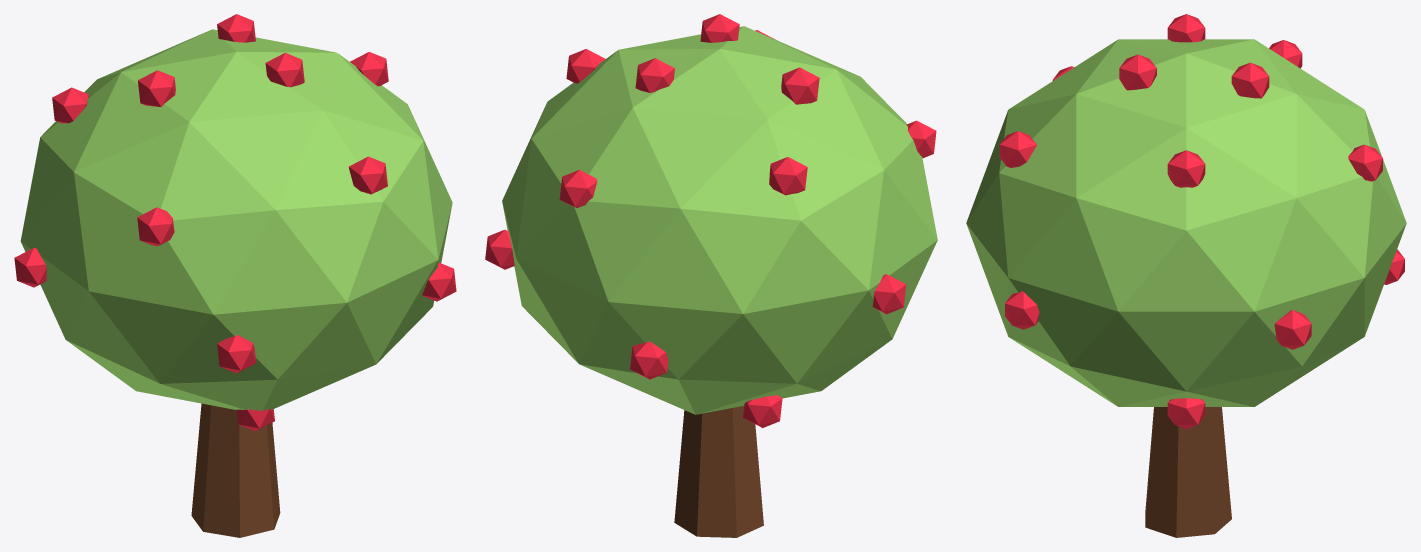
The model's file is arvore_frutas.glb.
3 views of the same model, side by side, from view 1: azimuth 30°, elevation 25°; view 2: azimuth 150°, elevation 25°; view 3: azimuth 270°, elevation 25° (orthographic).
Visible parts, largest first — view 1: arvore_frutas_copa, arvore_frutas_tronco, arvore_frutas_fruta_09, arvore_frutas_fruta_04, arvore_frutas_fruta_05, arvore_frutas_fruta_12, arvore_frutas_fruta_13, arvore_frutas_fruta_08, arvore_frutas_fruta_03, arvore_frutas_fruta_11, arvore_frutas_fruta_10, arvore_frutas_fruta_01 (+1 smaller); view 2: arvore_frutas_copa, arvore_frutas_tronco, arvore_frutas_fruta_03, arvore_frutas_fruta_12, arvore_frutas_fruta_07, arvore_frutas_fruta_02, arvore_frutas_fruta_11, arvore_frutas_fruta_15, arvore_frutas_fruta_08, arvore_frutas_fruta_13, arvore_frutas_fruta_06, arvore_frutas_fruta_01 (+1 smaller); view 3: arvore_frutas_copa, arvore_frutas_tronco, arvore_frutas_fruta_01, arvore_frutas_fruta_06, arvore_frutas_fruta_11, arvore_frutas_fruta_13, arvore_frutas_fruta_05, arvore_frutas_fruta_10, arvore_frutas_fruta_14, arvore_frutas_fruta_02, arvore_frutas_fruta_12, arvore_frutas_fruta_03.
Boxes of the visible parts, x1,y1,x2,y2 form: arvore_frutas_copa: [20, 29, 452, 410]; arvore_frutas_tronco: [191, 403, 280, 537]; arvore_frutas_fruta_09: [217, 335, 256, 373]; arvore_frutas_fruta_04: [137, 207, 174, 246]; arvore_frutas_fruta_05: [349, 156, 387, 194]; arvore_frutas_fruta_12: [138, 70, 175, 106]; arvore_frutas_fruta_13: [265, 53, 304, 87]; arvore_frutas_fruta_08: [14, 247, 46, 287]; arvore_frutas_fruta_03: [52, 87, 88, 123]; arvore_frutas_fruta_11: [217, 14, 255, 42]; arvore_frutas_fruta_10: [422, 262, 456, 301]; arvore_frutas_fruta_01: [350, 52, 388, 86]; arvore_frutas_copa: [502, 26, 937, 414]; arvore_frutas_tronco: [674, 406, 763, 537]; arvore_frutas_fruta_03: [769, 157, 807, 195]; arvore_frutas_fruta_12: [781, 67, 819, 104]; arvore_frutas_fruta_07: [630, 341, 668, 379]; arvore_frutas_fruta_02: [559, 169, 597, 207]; arvore_frutas_fruta_11: [635, 58, 674, 92]; arvore_frutas_fruta_15: [743, 395, 782, 427]; arvore_frutas_fruta_08: [872, 274, 906, 314]; arvore_frutas_fruta_13: [700, 14, 739, 42]; arvore_frutas_fruta_06: [485, 229, 514, 269]; arvore_frutas_fruta_01: [566, 49, 605, 83]; arvore_frutas_copa: [966, 39, 1406, 406]; arvore_frutas_tronco: [1145, 407, 1231, 537]; arvore_frutas_fruta_01: [1167, 150, 1205, 187]; arvore_frutas_fruta_06: [1274, 310, 1311, 349]; arvore_frutas_fruta_11: [1231, 62, 1269, 98]; arvore_frutas_fruta_13: [1119, 54, 1156, 90]; arvore_frutas_fruta_05: [999, 131, 1036, 167]; arvore_frutas_fruta_10: [1005, 291, 1039, 329]; arvore_frutas_fruta_14: [1167, 398, 1205, 428]; arvore_frutas_fruta_02: [1348, 144, 1382, 181]; arvore_frutas_fruta_12: [1167, 14, 1205, 42]; arvore_frutas_fruta_03: [1269, 40, 1302, 68].
Bounding box in the file's own units: 2.9 × 3.46 × 2.9.
